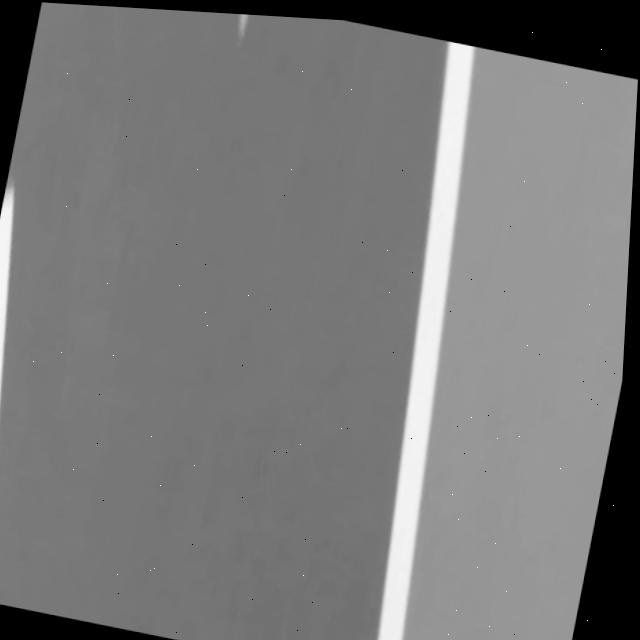center: (0, 187, 15, 407)
left: (378, 42, 476, 640)
